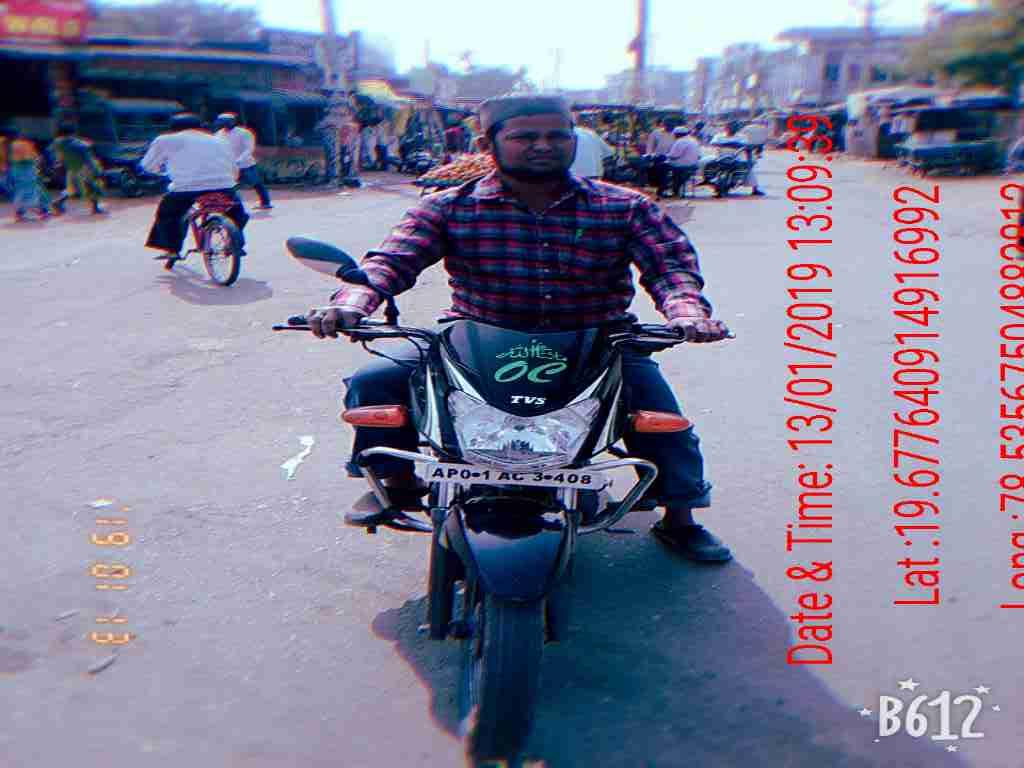plate: (414, 461, 614, 491)
